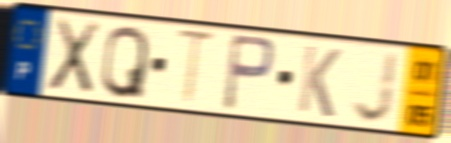J: (350, 49, 402, 126)
K: (295, 42, 344, 121)
P: (220, 31, 278, 114)
Q: (99, 23, 152, 101)
T: (174, 25, 220, 110)
X: (45, 16, 104, 97)
